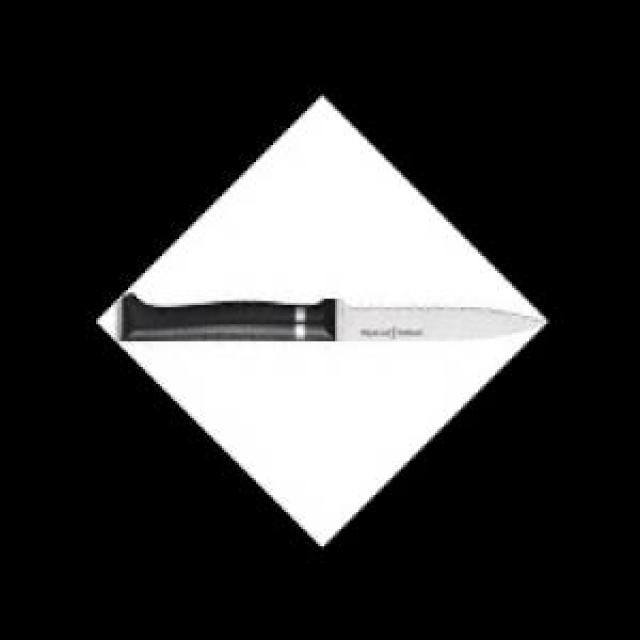knife: (113, 288, 539, 343)
